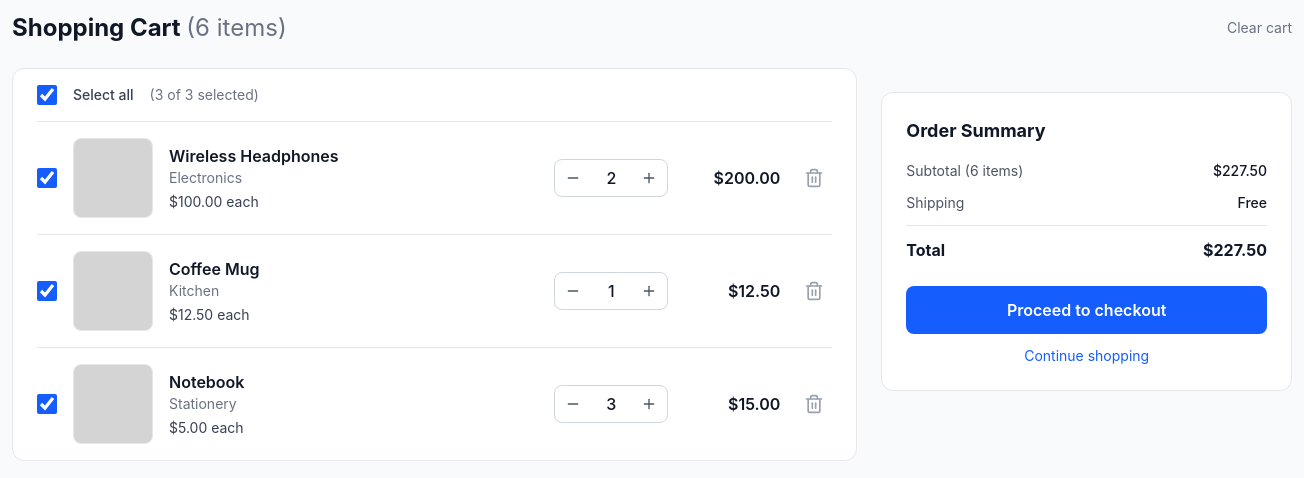
Test: CartPage › when an item checkbox is toggled › should update the select all checkbox state
Click the checkbox named "select wireless headphones". click: coordinates (47, 178)
box: left=37, top=168, right=57, bottom=188
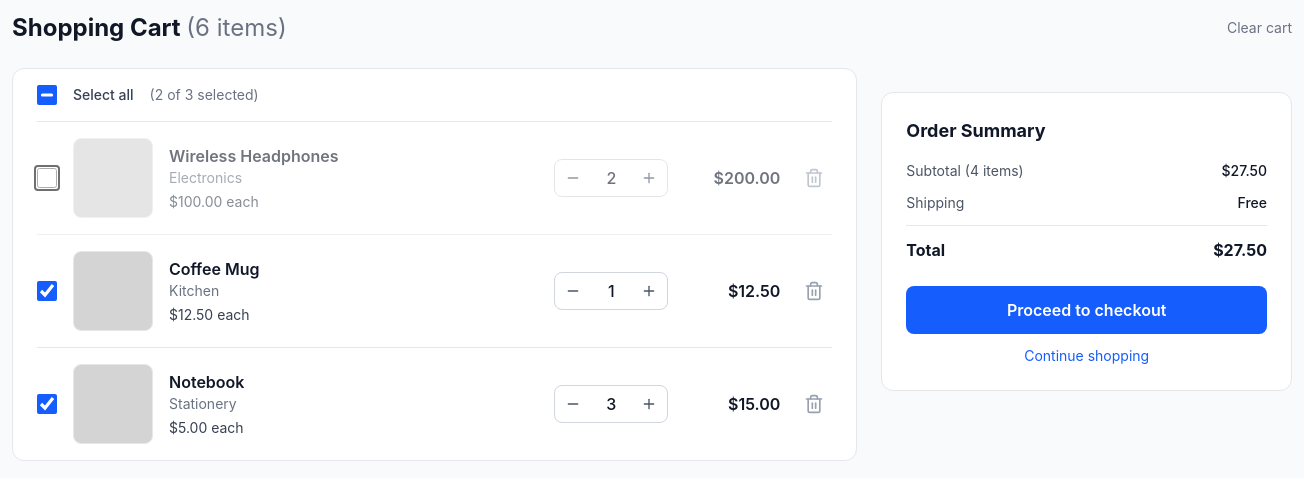
Check: the checkbox labelled "Select all (2 of 3 selected)" is not checked, box left=37, top=85, right=57, bottom=105
